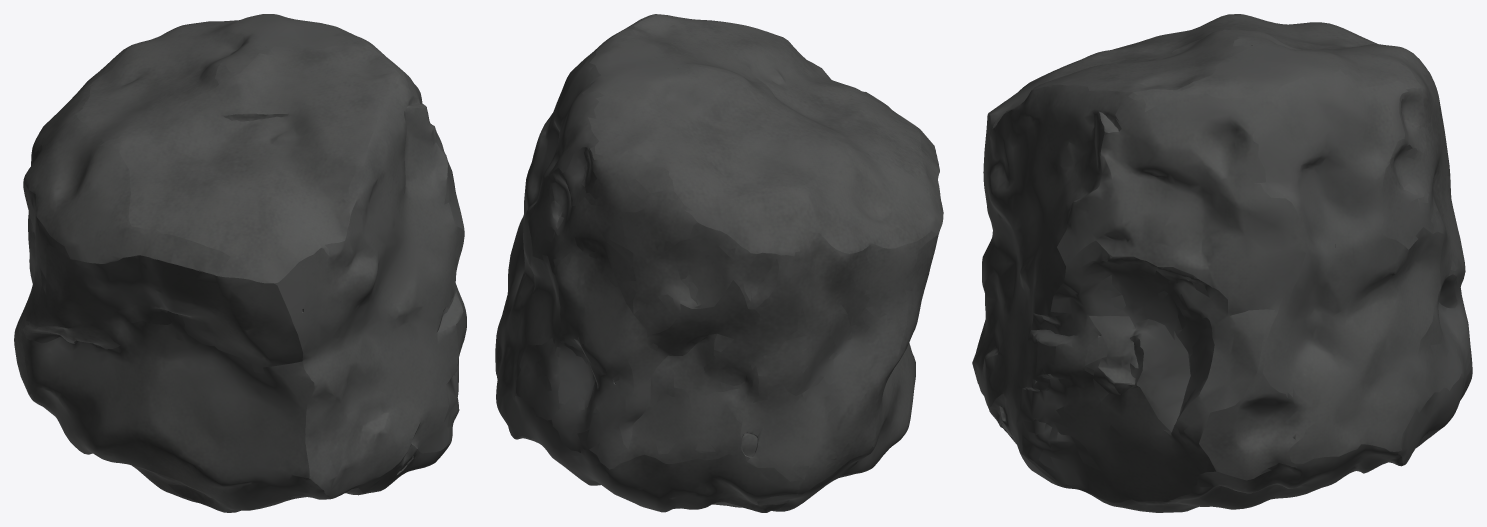
The model's file is A_naive1.glb.
The picture shows the model from 3 angles, left to right: view 1: azimuth 30°, elevation 25°; view 2: azimuth 150°, elevation 25°; view 3: azimuth 270°, elevation 25°; orthographic projection. The views are drawn at different scales.
Parts seen in each view (by area): view 1: world; view 2: world; view 3: world.
Boxes of the visible parts, x1,y1,x2,y2 form: world: [14, 14, 466, 512]; world: [495, 14, 943, 512]; world: [972, 14, 1472, 512].
Bounding box in the file's own units: 0.45 × 0.43 × 0.4517.
Materials: 1 (1 with a texture image).
